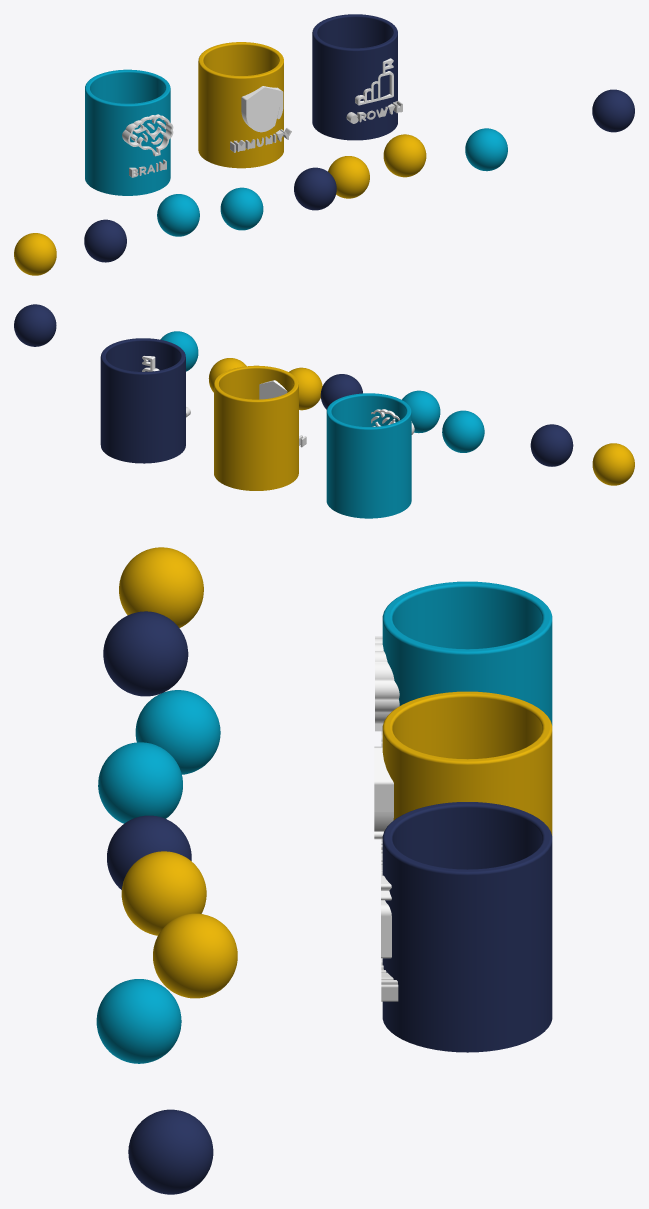
The model's file is Engagers_3D.fbx.
3 views of the same model, one above another, from view 1: azimuth 30°, elevation 25°; view 2: azimuth 150°, elevation 25°; view 3: azimuth 270°, elevation 25° (orthographic). The views are drawn at different scales.
Visible parts, largest first — view 1: Cylinder_2, Cylinder_1, Cylinder, Sphere_1_1, Sphere_2, Sphere_8, Sphere_2_0, Sphere_5, Sphere_1_7, Sphere_2_6, Sphere_2_3, Sphere_1_4 (+4 smaller); view 2: Cylinder_2, Cylinder_1, Cylinder, Sphere_1_7, Sphere_2, Sphere_8, Sphere_2_6, Sphere_2_0, Sphere_1_4, Sphere_5, Sphere_2_3, Sphere_1_1 (+1 smaller); view 3: Cylinder_2, Cylinder, Cylinder_1, Sphere_8, Sphere_2, Sphere_1_1, Sphere_2_3, Sphere_2_0, Sphere_1_4, Sphere_1_7, Sphere_2_6, Sphere_5 (+2 smaller).
Boxes of the visible parts, x1,y1,x2,y2 form: Cylinder_2: (312,14,397,140); Cylinder_1: (85,69,170,195); Cylinder: (198,42,283,168); Sphere_1_1: (383,134,426,177); Sphere_2: (592,89,634,132); Sphere_8: (84,219,126,262); Sphere_2_0: (220,187,263,230); Sphere_5: (294,167,336,210); Sphere_1_7: (14,233,56,275); Sphere_2_6: (157,194,199,236); Sphere_2_3: (465,128,507,171); Sphere_1_4: (328,156,369,198); Cylinder_2: (100,338,185,463); Cylinder_1: (326,393,411,518); Cylinder: (214,365,298,490); Sphere_1_7: (592,443,634,485); Sphere_2: (14,304,56,346); Sphere_8: (530,424,573,466); Sphere_2_6: (442,410,484,452); Sphere_2_0: (402,390,440,433); Sphere_1_4: (289,367,322,410); Sphere_5: (320,374,362,409); Sphere_2_3: (160,331,198,371); Sphere_1_1: (208,358,246,392); Cylinder_2: (382,802,552,1052); Cylinder: (382,691,552,835); Cylinder_1: (382,581,552,725); Sphere_8: (103,611,188,696); Sphere_2: (128,1109,213,1194); Sphere_1_1: (153,913,237,998); Sphere_2_3: (96,979,181,1063); Sphere_2_0: (98,742,182,823); Sphere_1_4: (121,851,206,935); Sphere_1_7: (119,547,203,627); Sphere_2_6: (135,690,220,774); Sphere_5: (107,815,191,889).
Bounding box in the file's own units: 1664 × 233 × 536.
